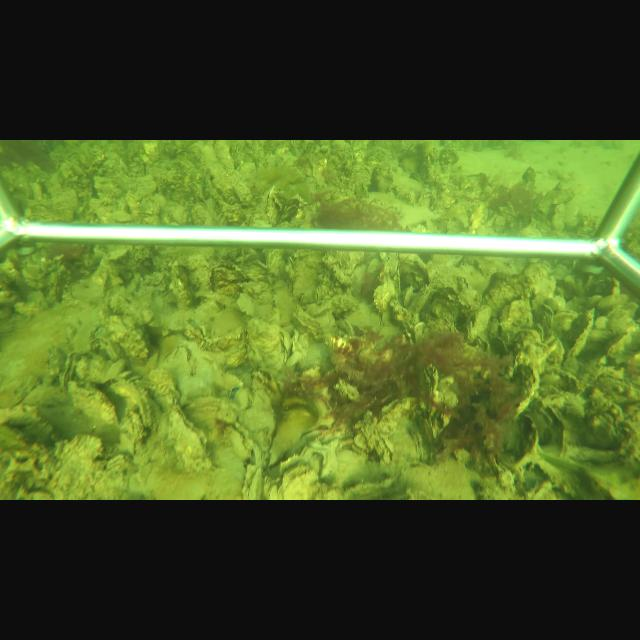Oyster-Closed: (483, 266, 556, 316), (169, 402, 213, 474), (238, 390, 278, 464), (488, 364, 538, 421), (247, 319, 288, 372), (67, 382, 118, 424), (563, 308, 596, 365), (264, 185, 280, 226), (422, 364, 439, 401), (604, 334, 627, 354)
